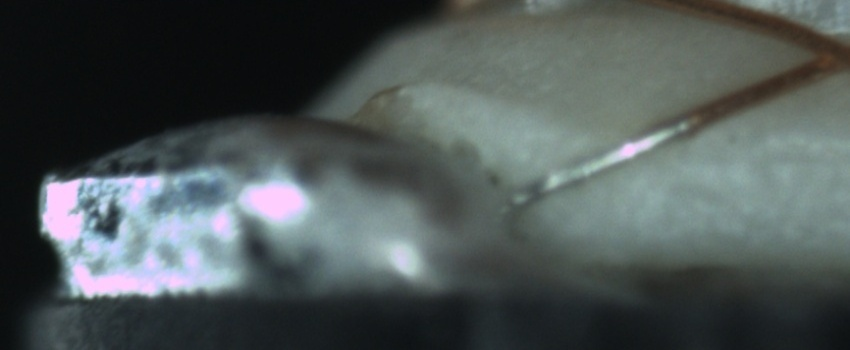CL: (792, 20, 849, 79)
DL: (677, 121, 850, 188)
TS: (506, 117, 694, 210)
